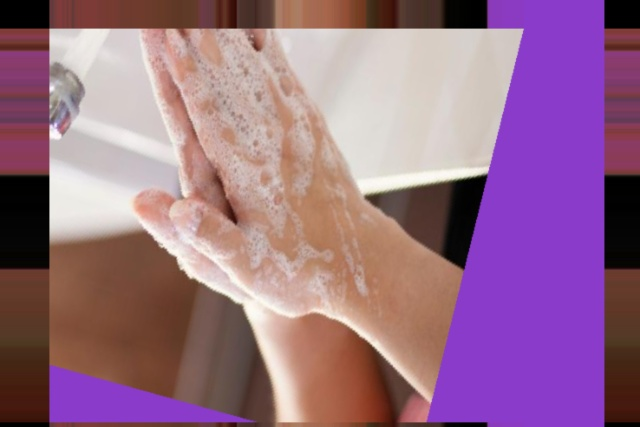washing hand: (0, 0, 425, 374)
